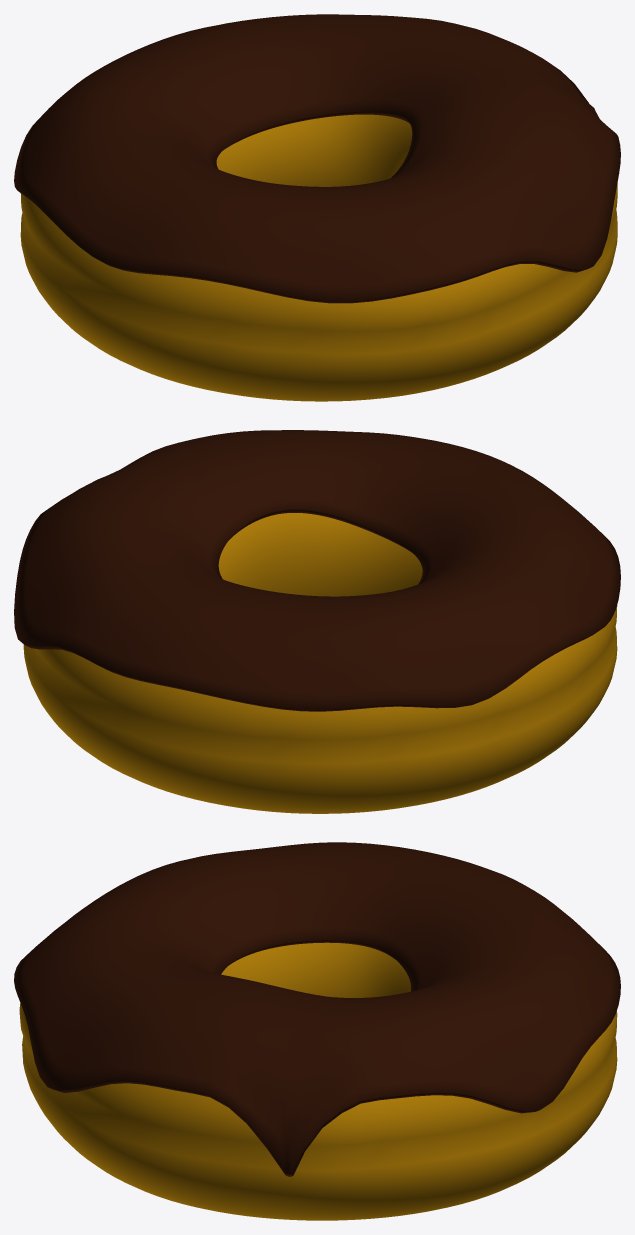
Rendered from donut.fbx.
3 renders of one model, top to bottom at view 1: azimuth 30°, elevation 25°; view 2: azimuth 150°, elevation 25°; view 3: azimuth 270°, elevation 25°, orthographic.
Visible parts, largest first — view 1: Icing, Donut; view 2: Icing, Donut; view 3: Icing, Donut.
Part boxes in pixels (x1,y1,x2,y2): Icing: (14,14,620,303); Donut: (20,114,617,401); Icing: (14,430,620,711); Donut: (23,513,617,813); Icing: (14,842,620,1176); Donut: (19,942,617,1220).
Bounding box in the file's own units: 4.52 × 1.66 × 4.5.
